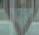Give way: (1, 2, 36, 34)
